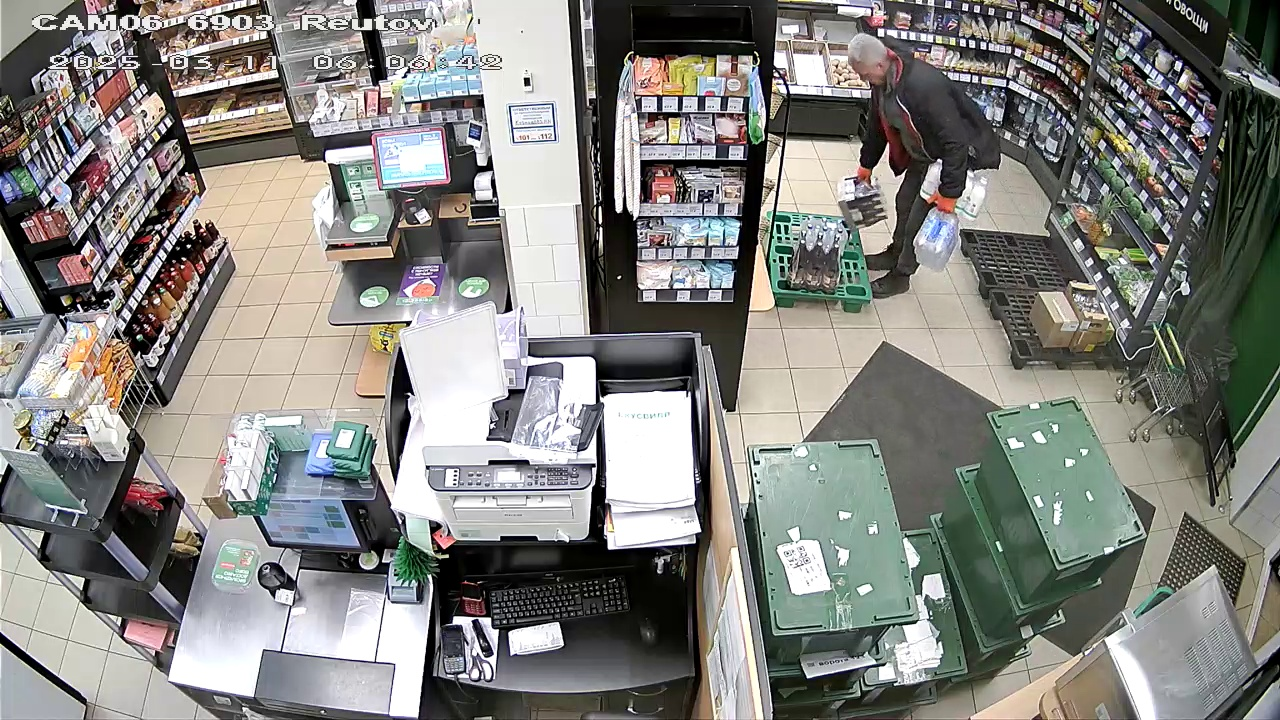Human: (835, 30, 993, 296)
pallet: (960, 226, 1129, 368)
